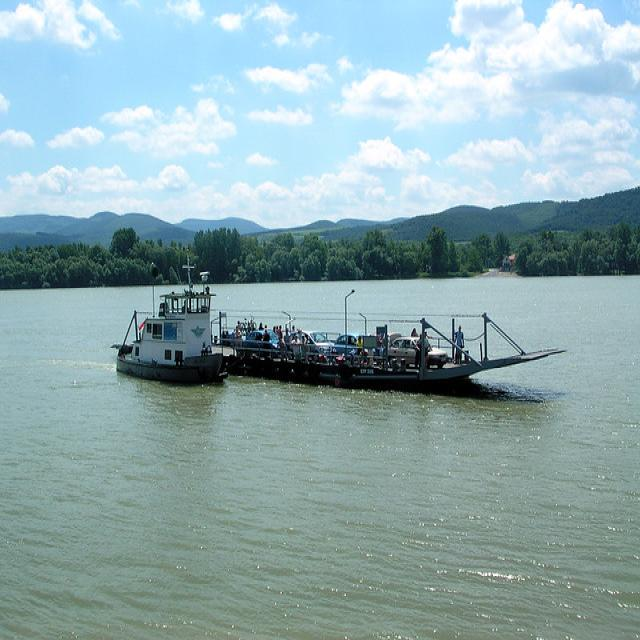houseboat: (109, 281, 225, 385)
